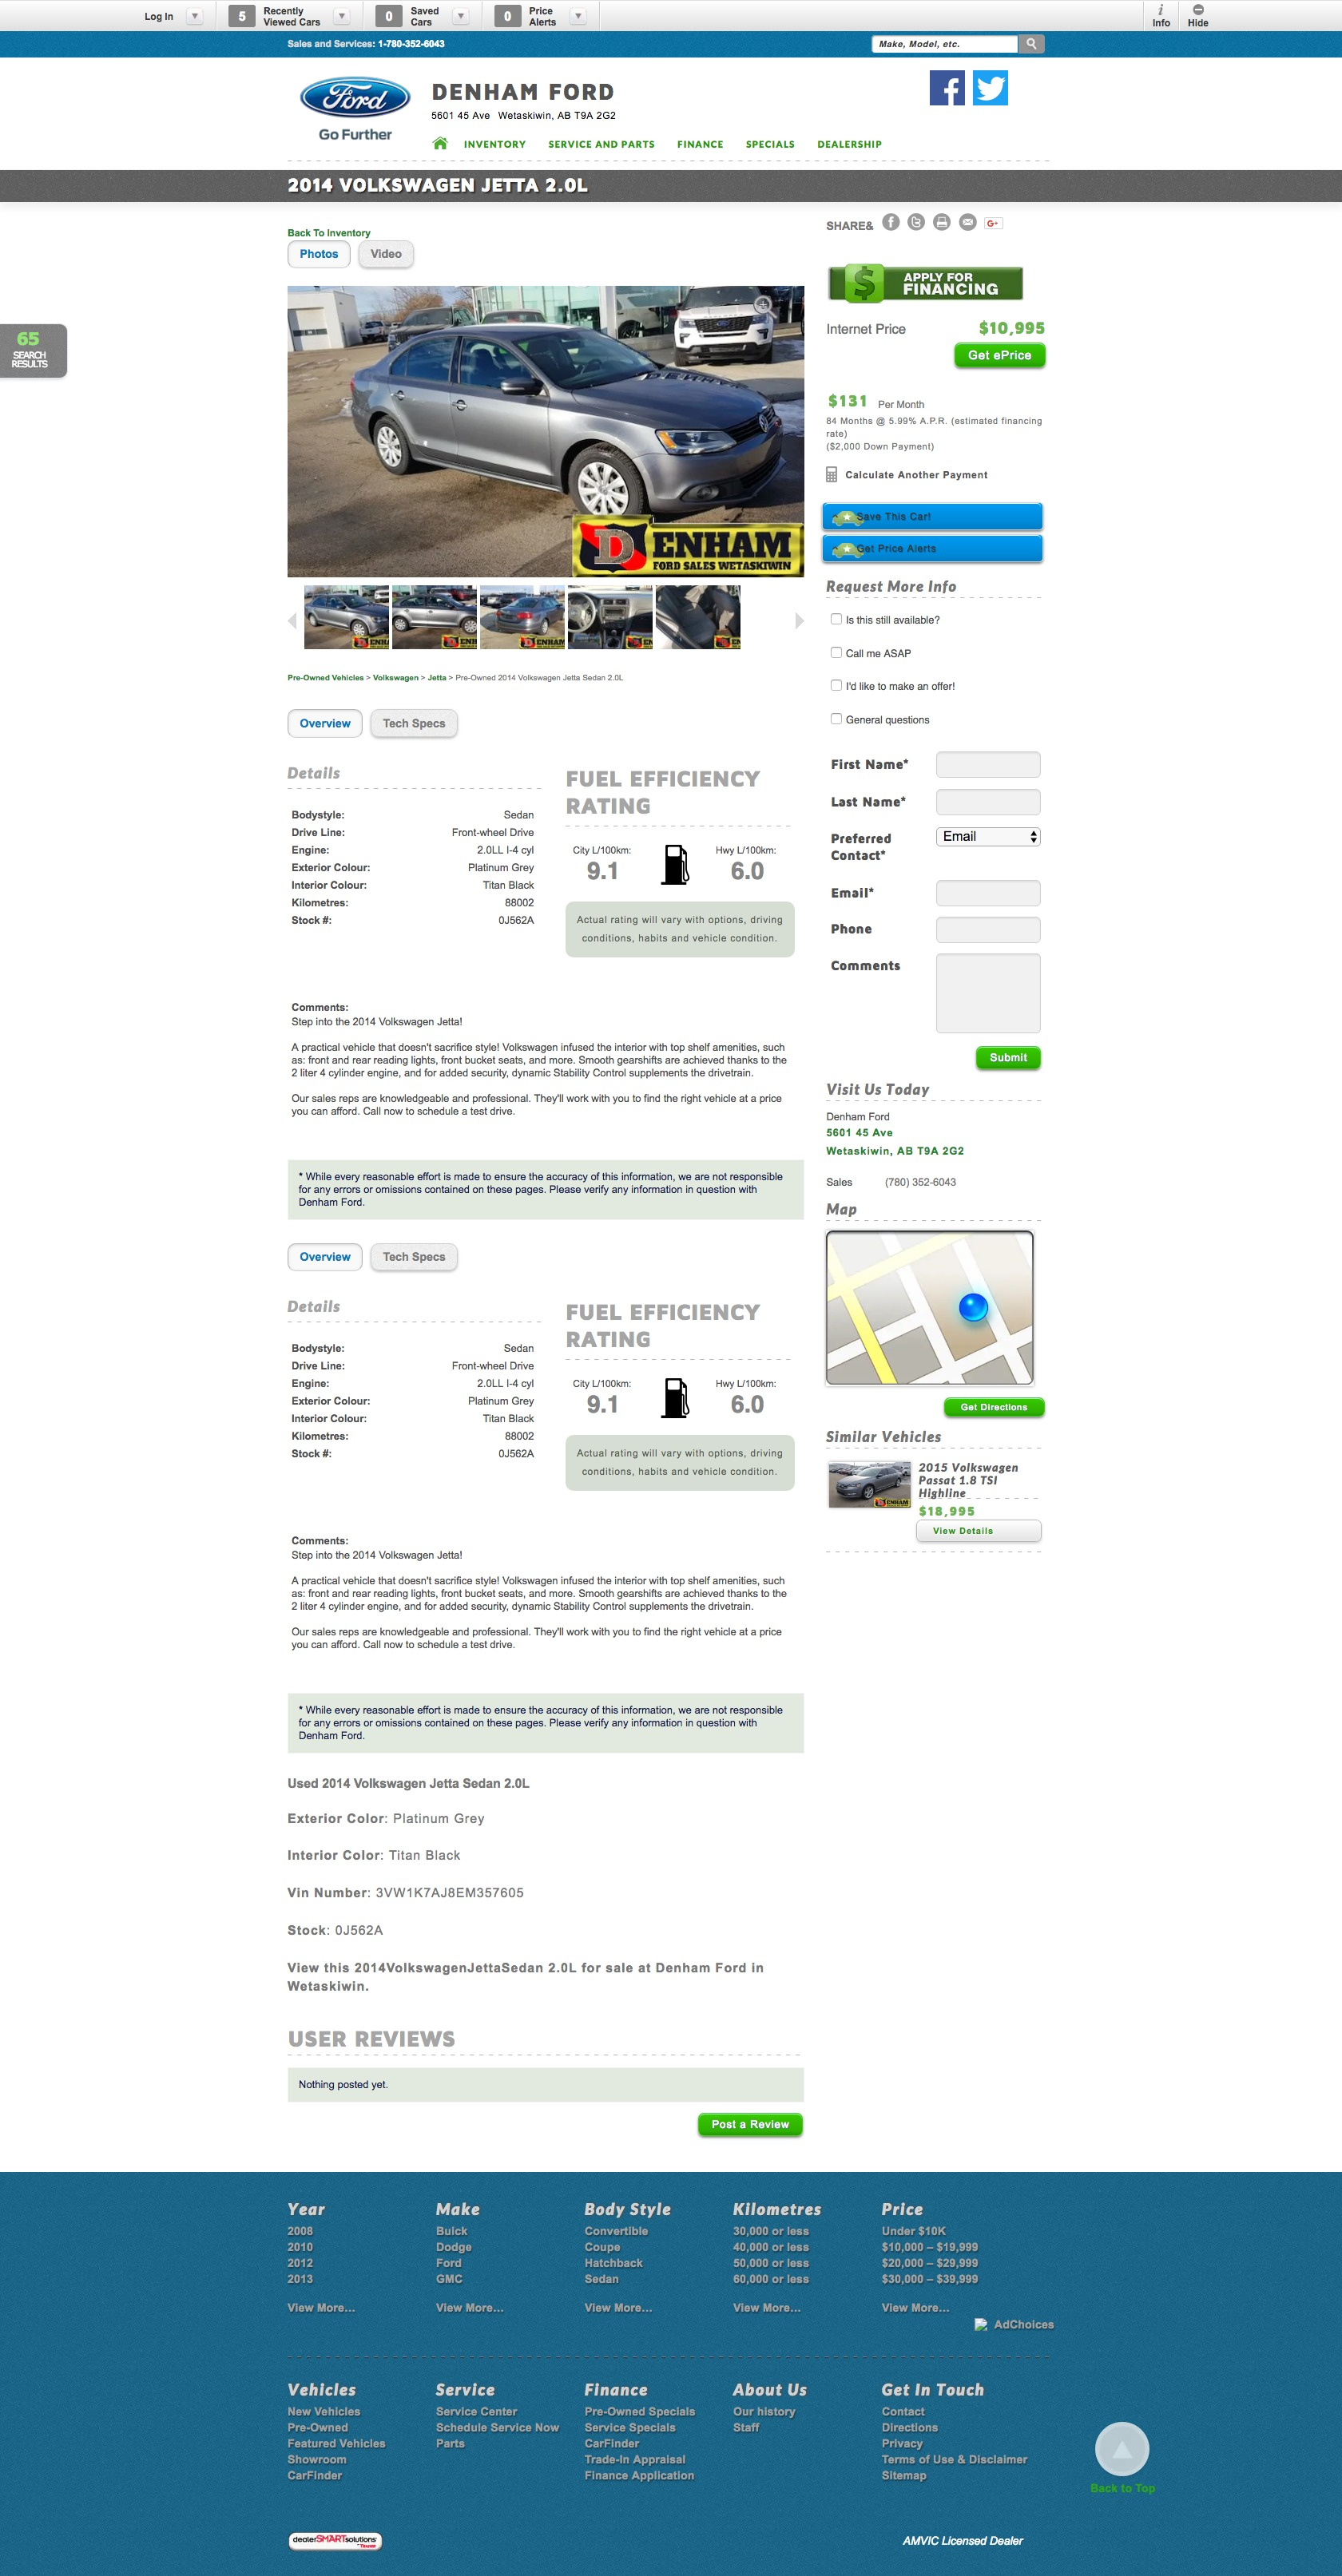car: (796, 613, 805, 630)
